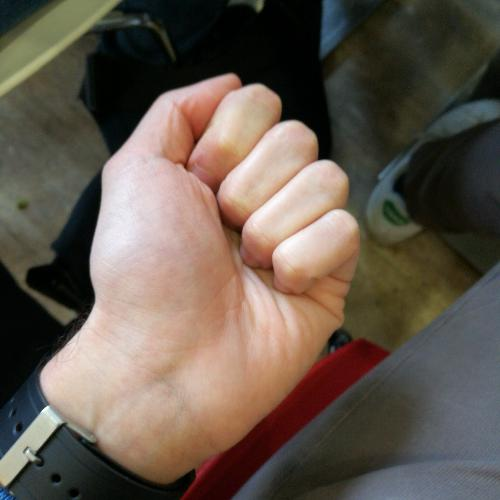rock: (83, 66, 369, 424)
